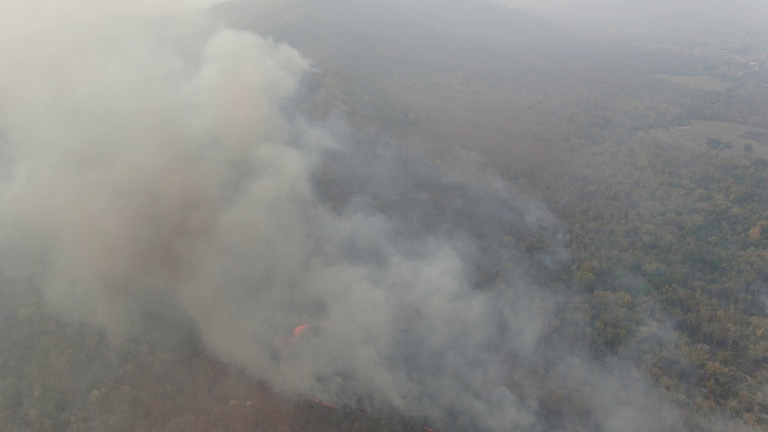fire: (314, 397, 354, 418), (288, 318, 314, 341), (421, 425, 446, 432)
smoke: (23, 6, 345, 386), (256, 196, 553, 431)
